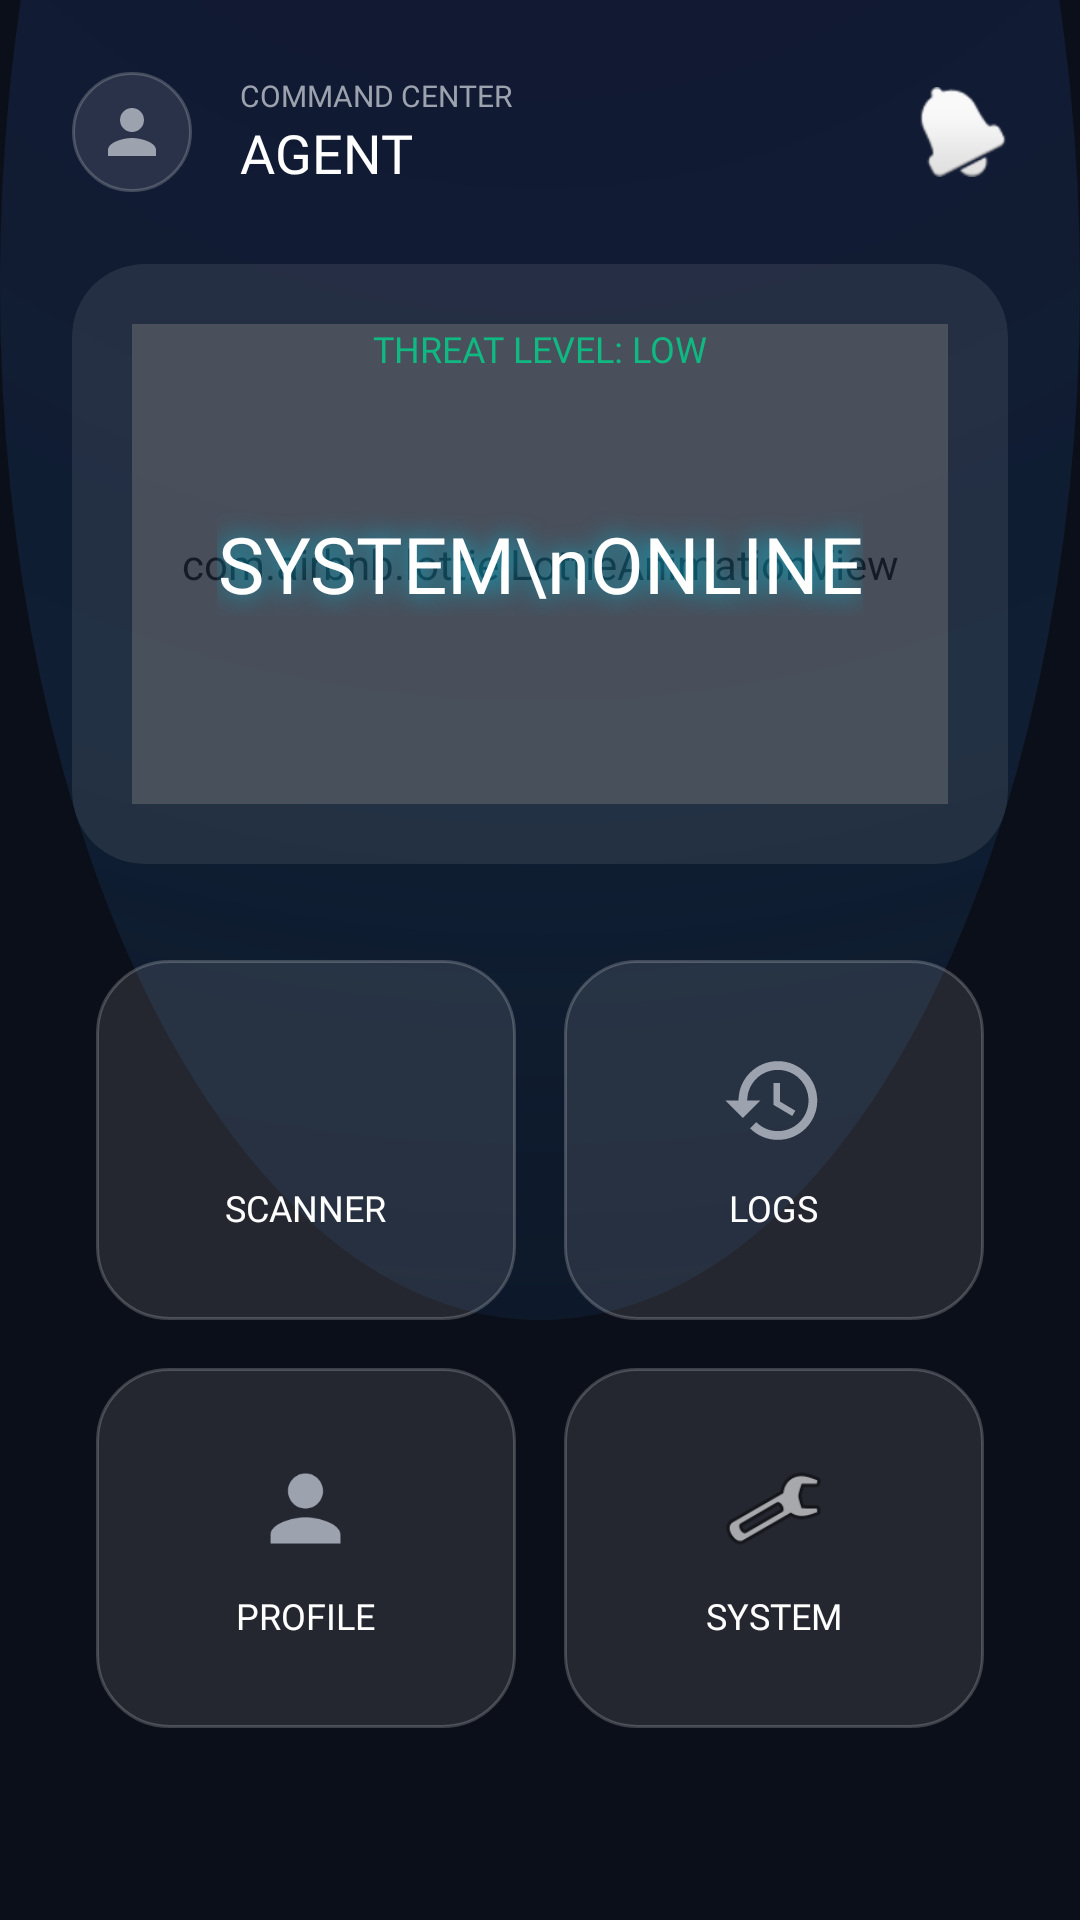

Screen size 1080w x 1920h. Icon name, then its center in pixels as point (x, y):
neon history: point (772, 1100)
popup reminder: point (962, 132)
preferences: point (773, 1508)
